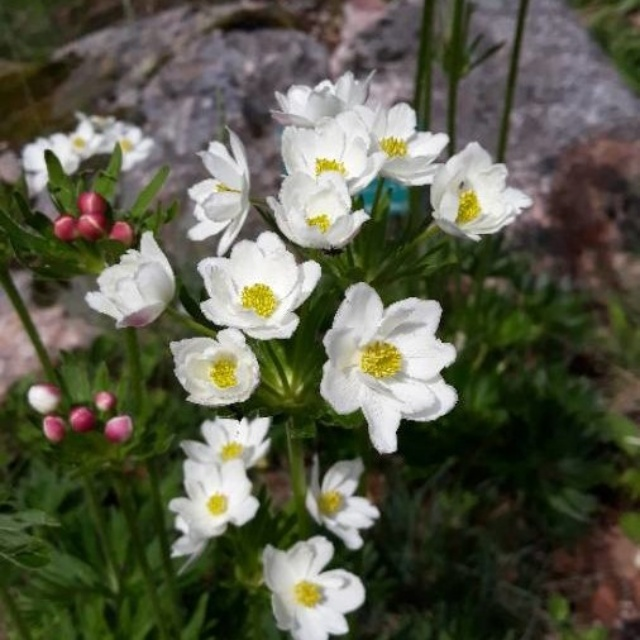obstacle: (47, 62, 472, 582)
